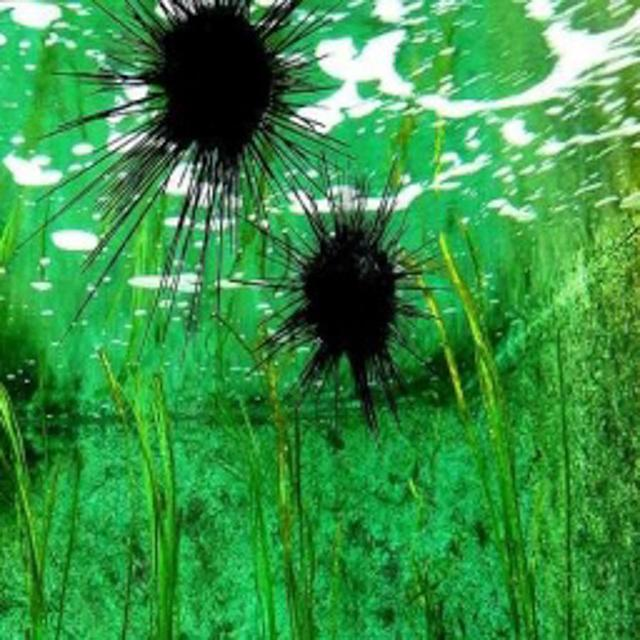Urchin: (18, 2, 356, 312), (248, 158, 431, 444)
